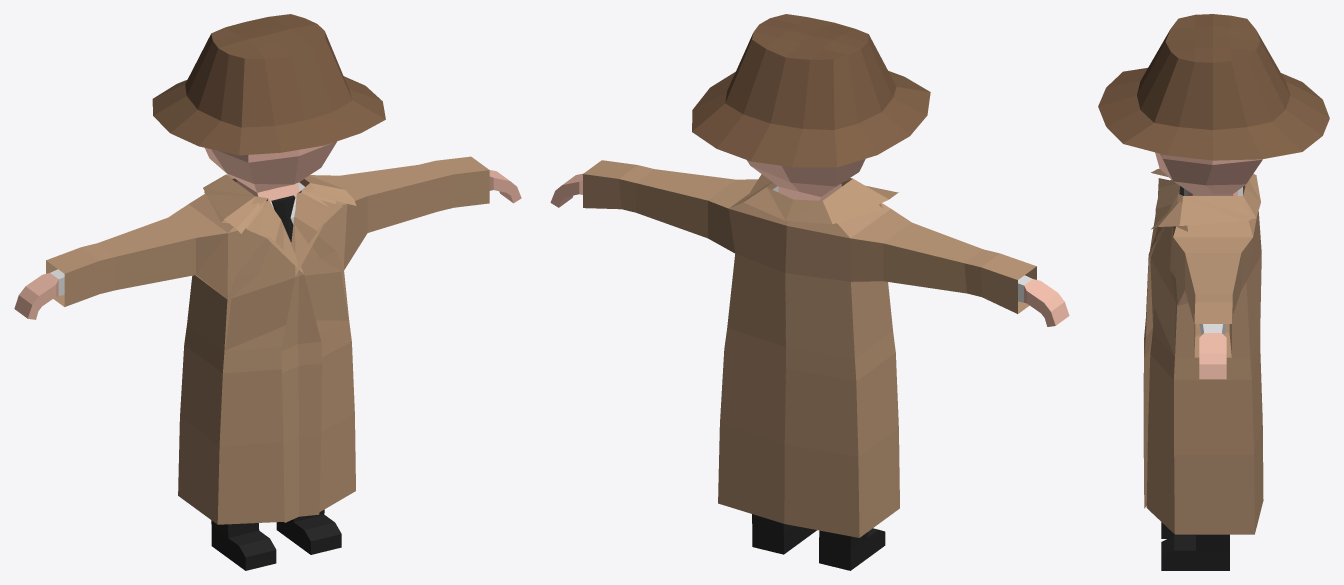
The model's file is bucky.fbx.
3 renders of one model, left to right at view 1: azimuth 30°, elevation 25°; view 2: azimuth 150°, elevation 25°; view 3: azimuth 270°, elevation 25°, orthographic. The views are drawn at different scales.
Visible parts, largest first — view 1: Bucky; view 2: Bucky; view 3: Bucky.
Boxes of the visible parts, x1=… form: Bucky: x1=14, y1=14, x2=521, y2=570; Bucky: x1=550, y1=14, x2=1069, y2=570; Bucky: x1=1098, y1=14, x2=1329, y2=570.
Size of the model in its own units: 2285 by 2238 by 921.
